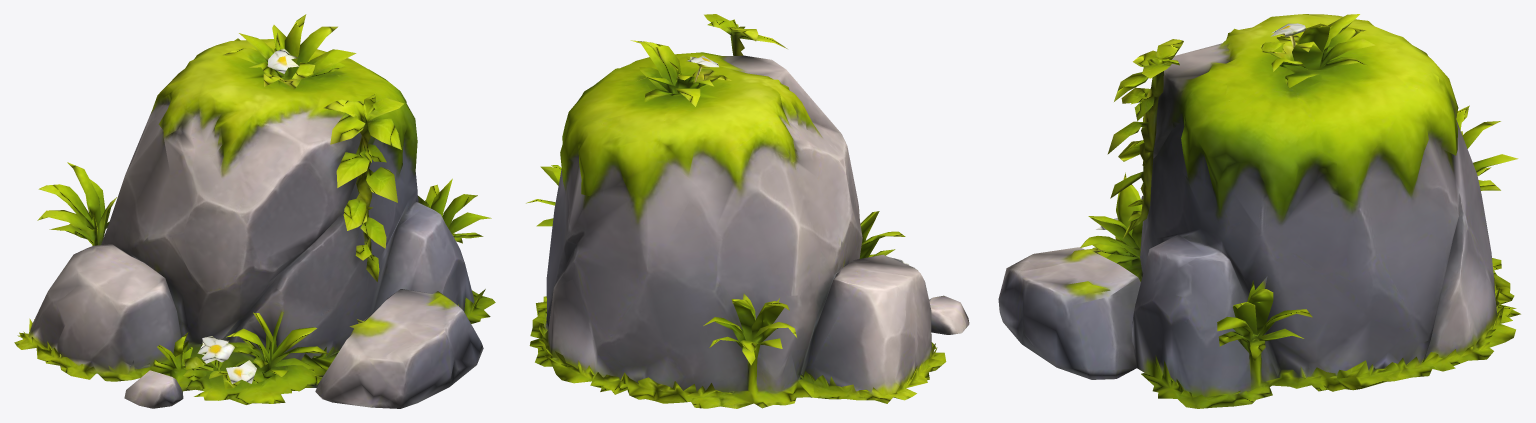
3 renders of one model, left to right at view 1: azimuth 30°, elevation 25°; view 2: azimuth 150°, elevation 25°; view 3: azimuth 270°, elevation 25°, orthographic. The views are drawn at different scales.
Parts seen in each view (by area): view 1: prop; view 2: prop; view 3: prop.
Part boxes in pixels (bbox=[...]): prop: bbox=[14, 14, 495, 408]; prop: bbox=[526, 14, 969, 408]; prop: bbox=[998, 14, 1520, 408].
Size of the model in its own units: 1.56 by 0.9932 by 1.5.
1 material, 1 textured.
